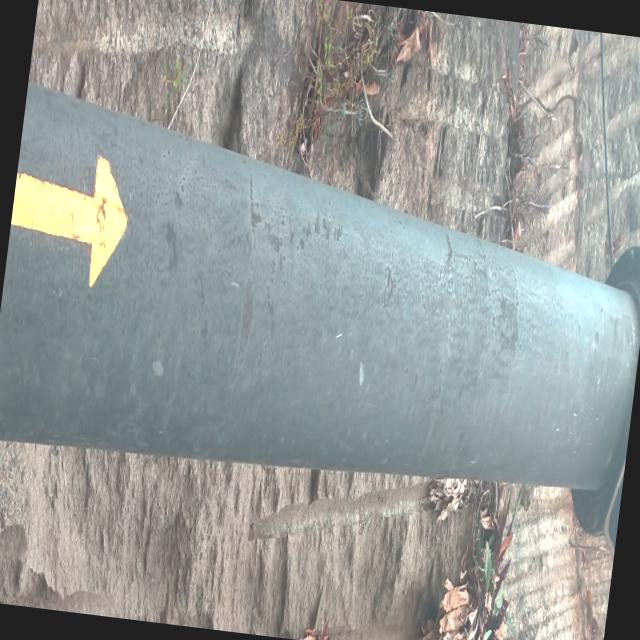gas: (0, 61, 640, 534)
